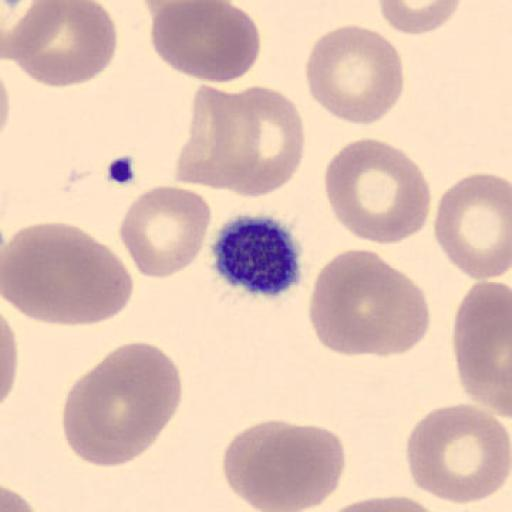Platelet: (208, 211, 306, 298)
RBC: (63, 341, 184, 470), (0, 220, 135, 329), (184, 82, 307, 200), (308, 248, 432, 358), (220, 417, 348, 512), (322, 136, 432, 246), (405, 401, 511, 506), (304, 23, 406, 127), (175, 83, 263, 196), (7, 0, 118, 89), (147, 0, 261, 85), (308, 249, 393, 358), (117, 184, 213, 280), (434, 171, 512, 282), (452, 279, 512, 416), (378, 0, 463, 37), (310, 495, 448, 512), (0, 0, 40, 56), (140, 0, 228, 24), (0, 312, 20, 412), (0, 482, 40, 511), (0, 64, 11, 147)
